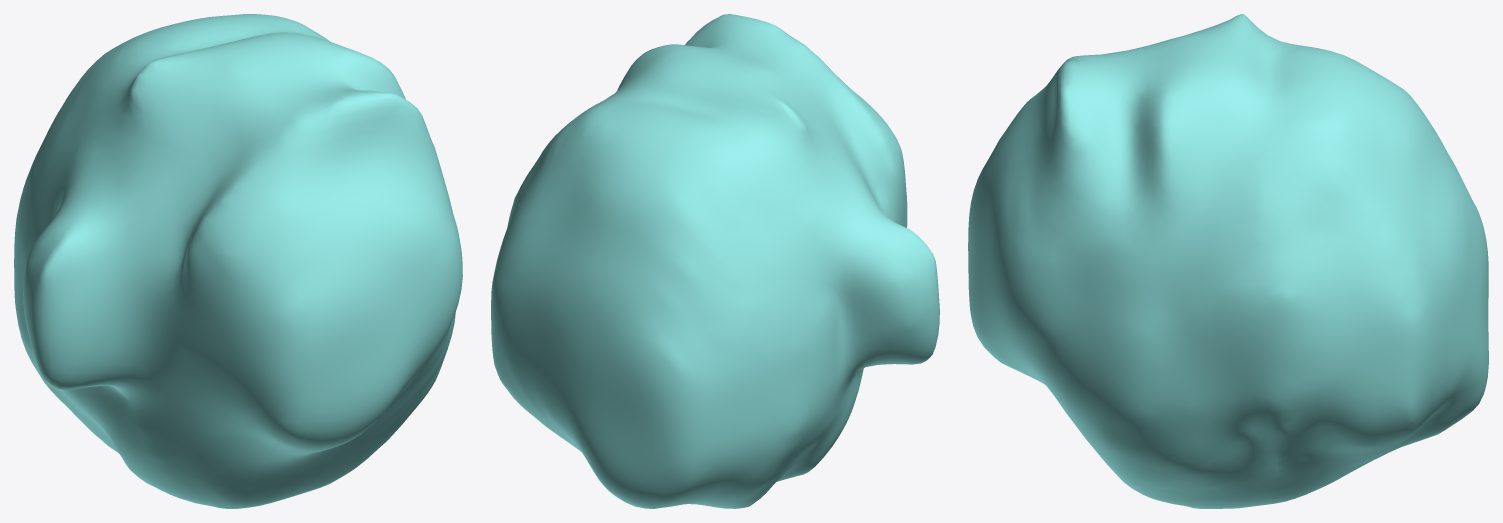
The model's file is tumor.glb.
The picture shows the model from 3 angles, left to right: view 1: azimuth 30°, elevation 25°; view 2: azimuth 150°, elevation 25°; view 3: azimuth 270°, elevation 25°; orthographic projection. The views are drawn at different scales.
Visible parts, largest first — view 1: Segmentation; view 2: Segmentation; view 3: Segmentation.
Boxes of the visible parts, box(x1,y1,x2,y2) form: Segmentation: box(14, 14, 462, 508); Segmentation: box(491, 14, 939, 508); Segmentation: box(968, 14, 1488, 508).
Bounding box in the file's own units: 32.92 × 33.1 × 35.48.
